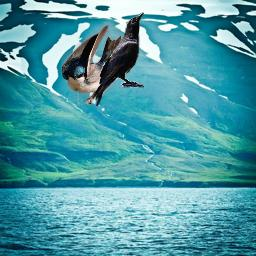Crow: (92, 12, 144, 106)
Swallow: (61, 24, 122, 106)
